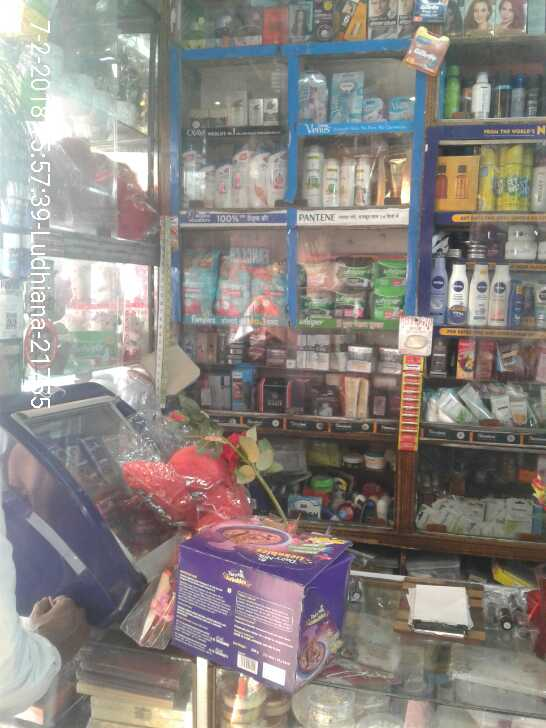venus: (331, 72, 361, 123), (301, 70, 329, 123), (387, 95, 414, 121), (365, 99, 384, 120)
